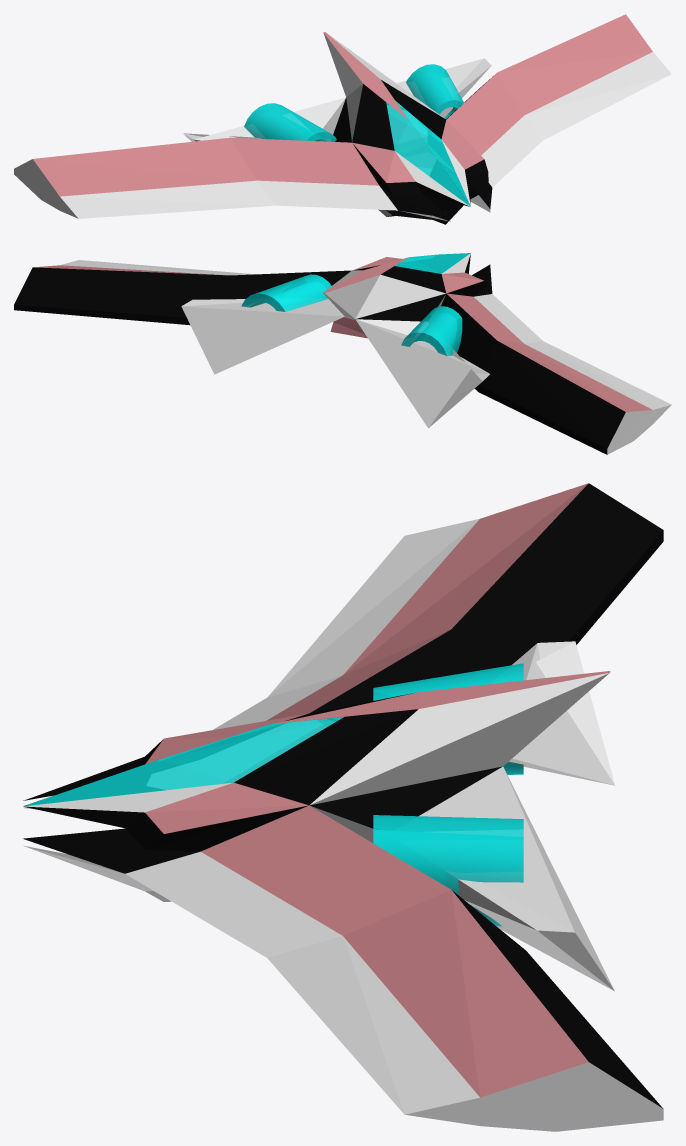
Rendered from Fighter.fbx.
3 renders of one model, top to bottom at view 1: azimuth 30°, elevation 25°; view 2: azimuth 150°, elevation 25°; view 3: azimuth 270°, elevation 25°, orthographic. The views are drawn at different scales.
Visible parts, largest first — view 1: Body6, EngineRight6, EngineLeft6; view 2: Body6, EngineLeft6, EngineRight6; view 3: Body6, EngineLeft6, EngineRight6.
Part boxes in pixels (left/top/right/bottom): Body6: left=14, top=14, right=671, bottom=224; EngineRight6: left=244, top=103, right=336, bottom=141; EngineLeft6: left=406, top=64, right=463, bottom=140; Body6: left=14, top=253, right=671, bottom=454; EngineLeft6: left=241, top=274, right=331, bottom=311; EngineRight6: left=401, top=306, right=462, bottom=356; Body6: left=23, top=483, right=663, bottom=1131; EngineLeft6: left=373, top=815, right=523, bottom=926; EngineRight6: left=373, top=663, right=523, bottom=774.
Bounding box in the file's own units: 156 × 73.06 × 27.32.
